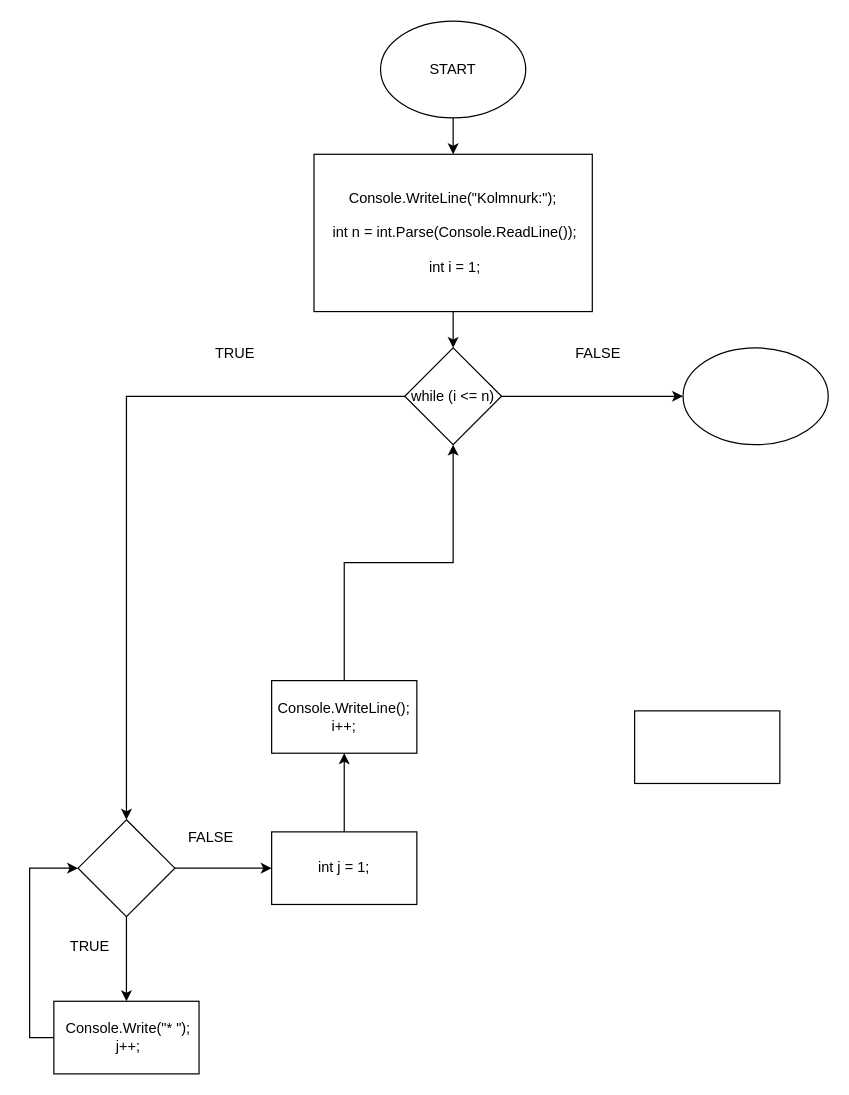
Image size: 849x1095. Some labels were removed from this diagram. The shapes that lost their labels are listed below. From the top down, each one's centre as x and y in pixels, then its label:
(x=755, y=396): END
(x=706, y=746): do
(x=126, y=868): while (i <= i );
